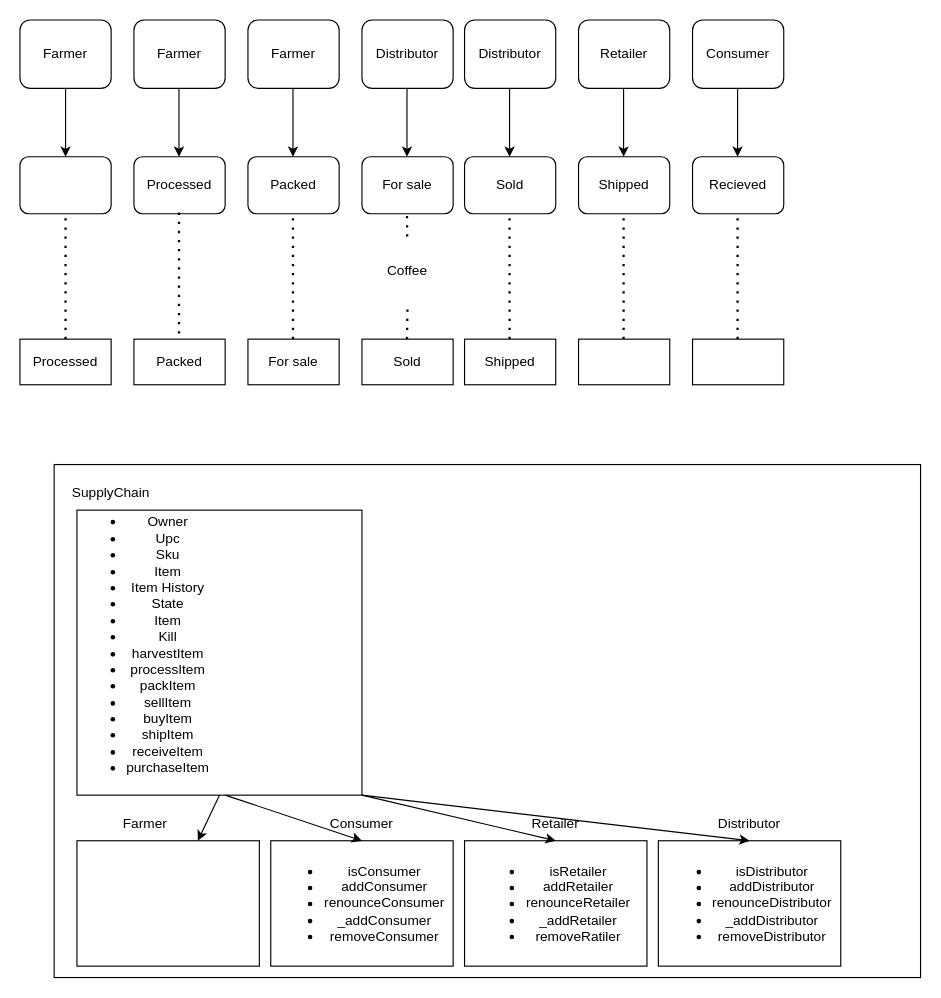
The diagram is 941 pixels wide and 998 high, and some of its shapes have lost their labels. The centre of each missing label's shape, as x and y in pixels:
"Harvested" goes at pixel 65 185.
"isFarmer addFarmer renounceFarmer _addFarmer removeeFarmer" goes at pixel 167 903.
"Purchased" goes at pixel 737 361.
"Received" goes at pixel 623 361.
